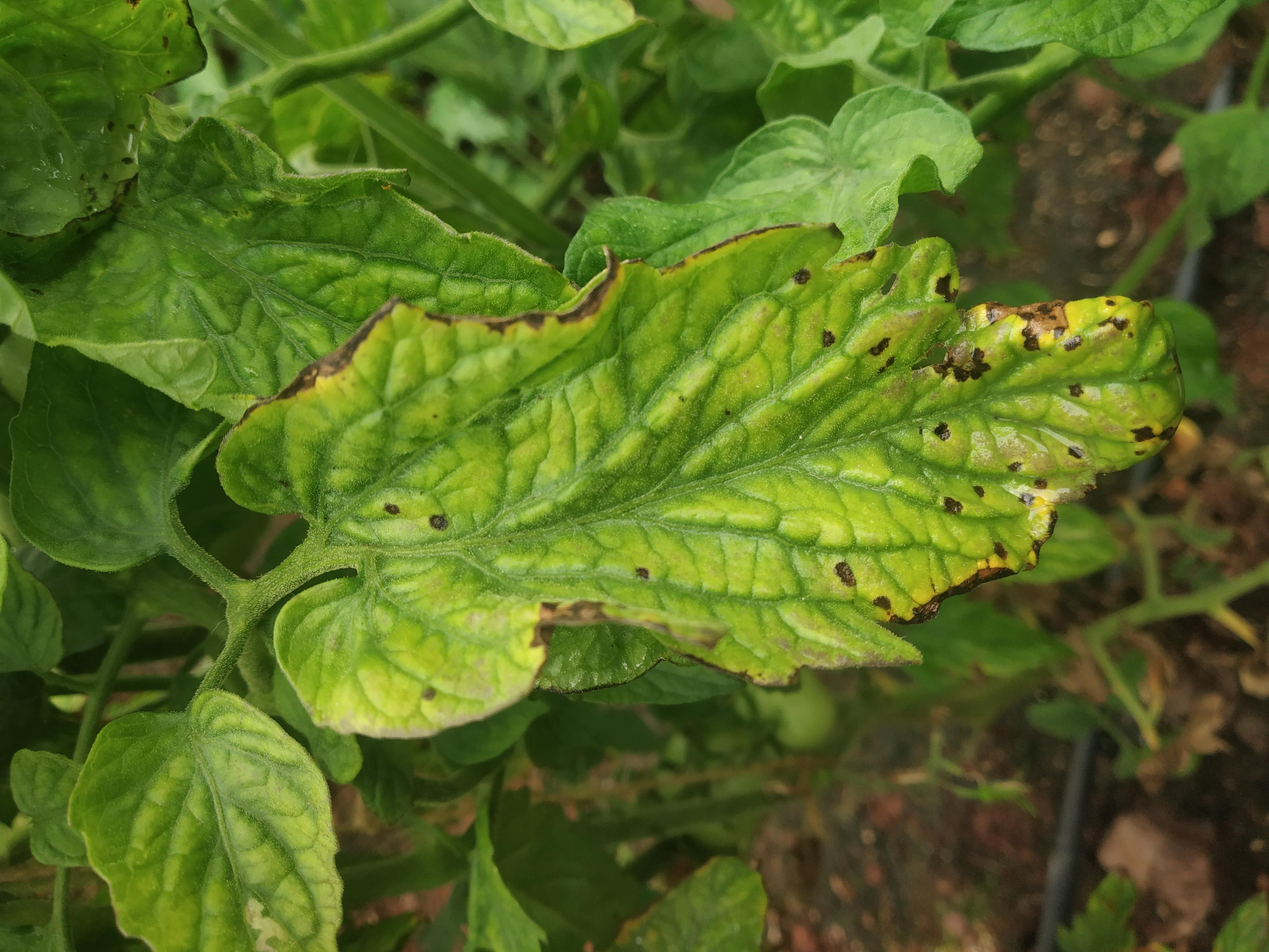Early Blight: (276, 160, 990, 894)
